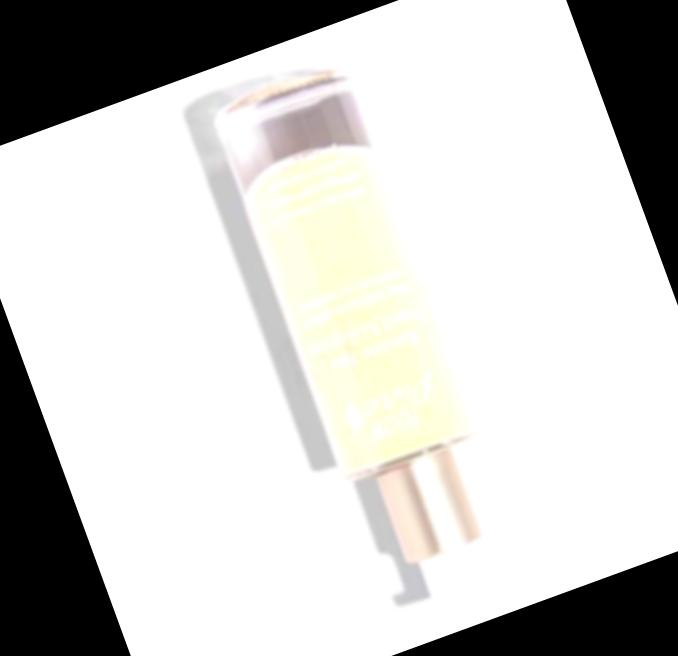cosmetic: (210, 67, 536, 626)
